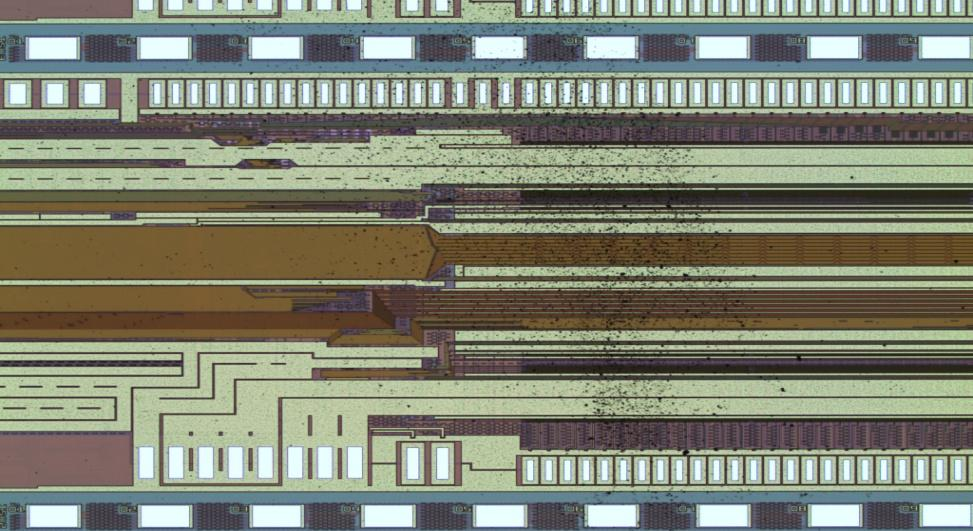PO CONTAMINATION: (111, 1, 827, 518)
